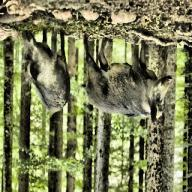boar: (80, 36, 172, 120), (20, 28, 70, 115)
